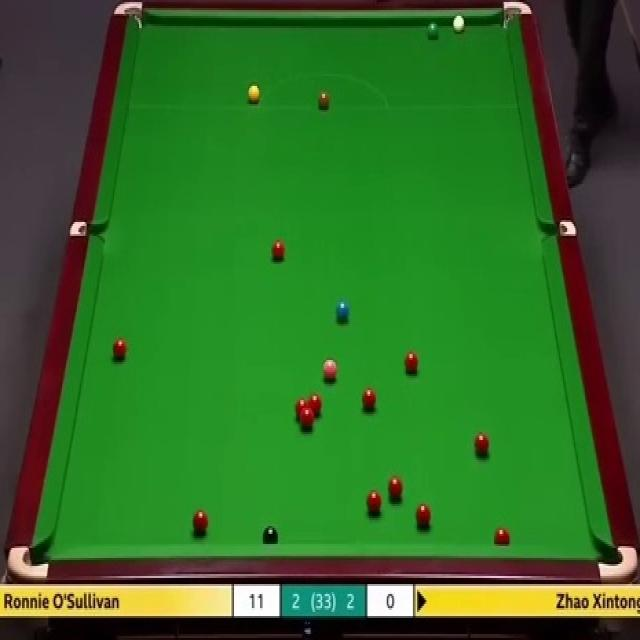black-ball: (262, 523, 280, 545)
blue-ball: (335, 299, 351, 324)
brown-ball: (316, 88, 330, 111)
green-ball: (425, 21, 440, 40)
pink-ball: (323, 354, 338, 382)
red-ball: (403, 349, 420, 378), (388, 476, 404, 506), (111, 338, 128, 365), (414, 503, 431, 529), (474, 432, 491, 457), (366, 489, 382, 515), (361, 387, 376, 412), (194, 508, 208, 534), (271, 239, 286, 262), (308, 394, 322, 418), (494, 526, 510, 546), (301, 410, 314, 430), (295, 398, 308, 418)
white-ball: (450, 15, 466, 36)
yellow-ball: (246, 83, 260, 103)
